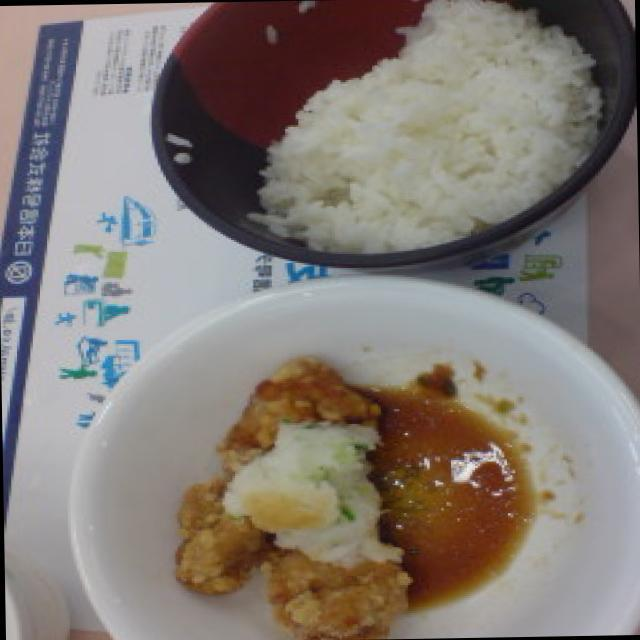Rice: (274, 9, 609, 265)
